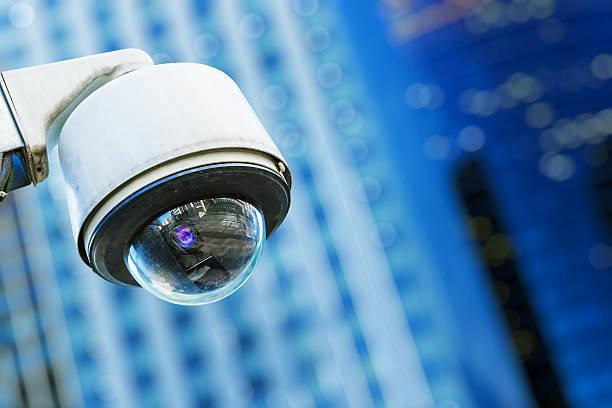camera: (0, 29, 322, 317)
